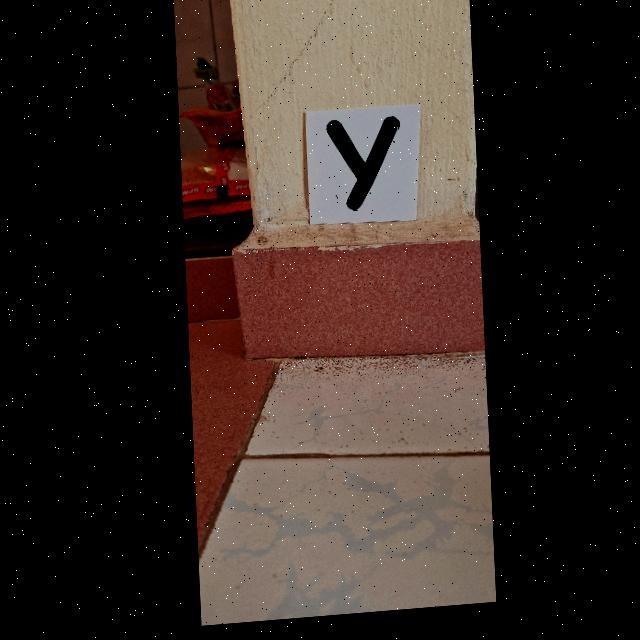Y: (325, 124, 397, 216)
